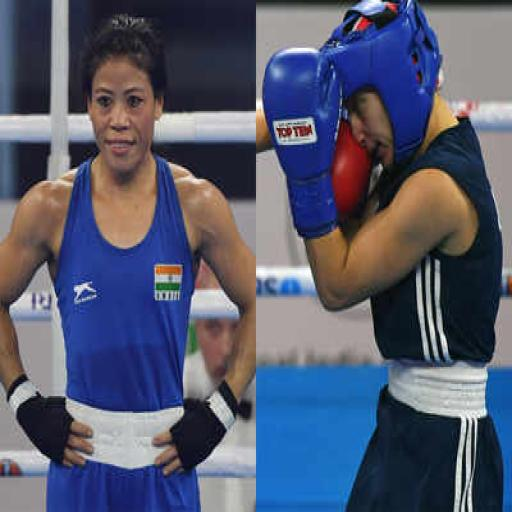boxing: (259, 0, 504, 510)
